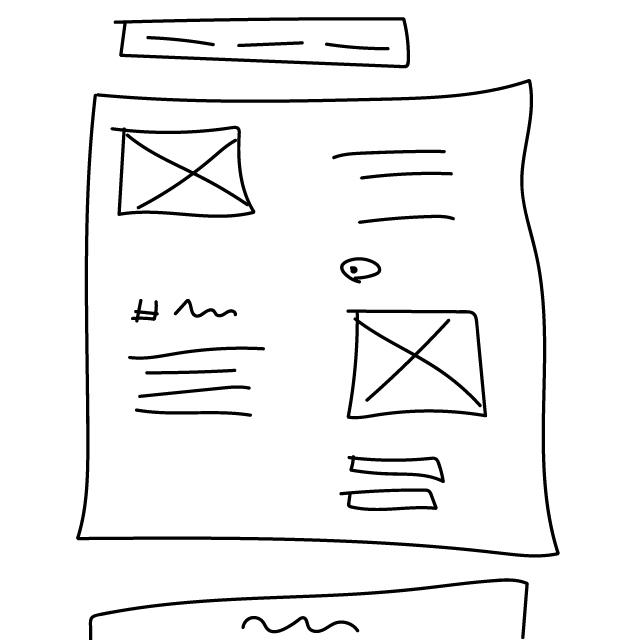checkboxrotation: (340, 256, 386, 288)
containerrotation: (55, 74, 568, 567)
footerrotation: (71, 575, 542, 640)
framerotation: (346, 303, 498, 422), (108, 125, 264, 221)
headingrotation: (130, 298, 254, 327)
inputrotation: (346, 454, 449, 487), (339, 487, 446, 514)
navrotation: (112, 10, 415, 71)
textrotation: (330, 142, 468, 238), (125, 341, 270, 431)
